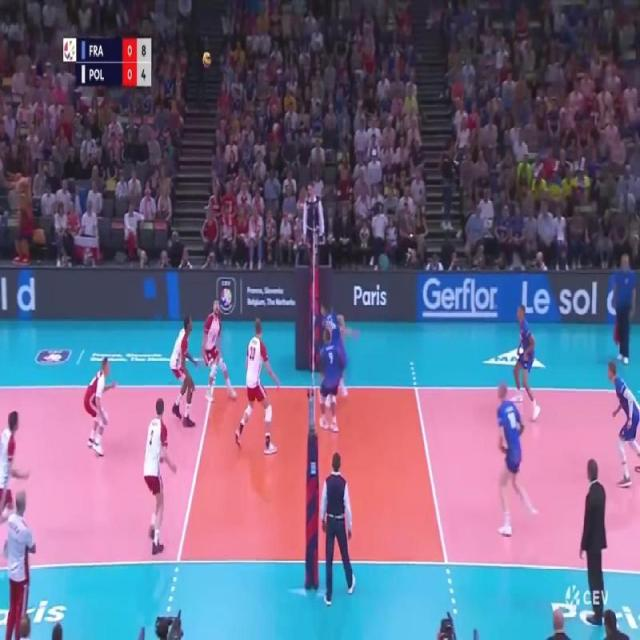volleyball: (202, 51, 211, 67)
